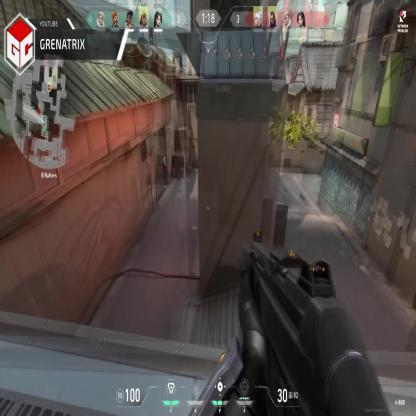enemy: (160, 152, 168, 181)
enemy_head: (162, 152, 166, 158)
